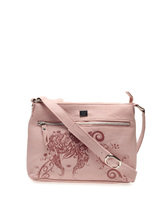bag: (29, 88, 151, 185)
